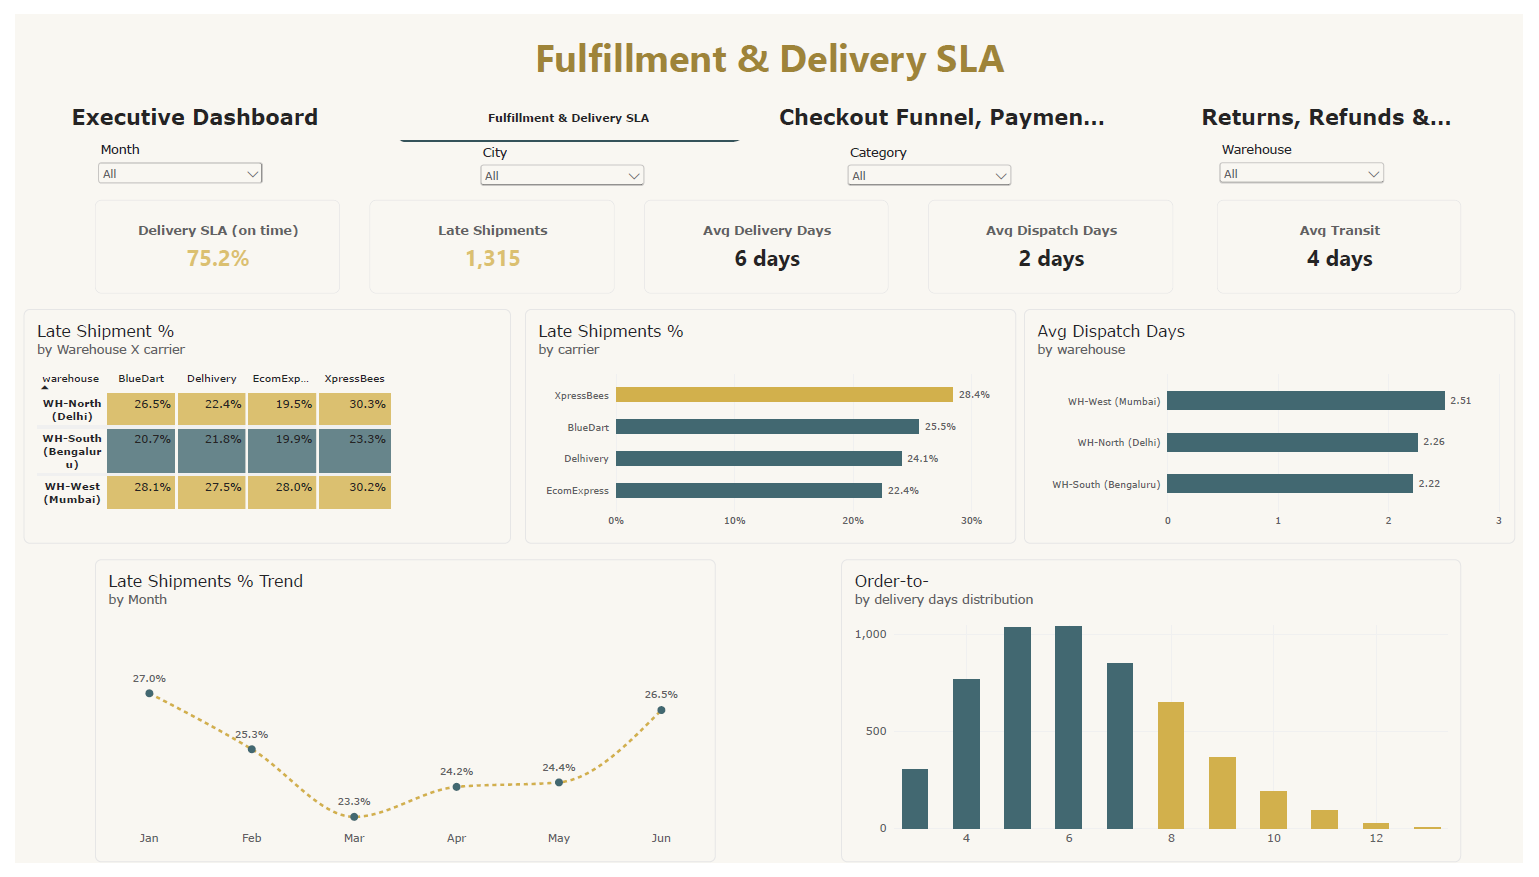

What the dashboard file says about the page in this screenshot:
{"tool":"powerbi","page":{"name":"Fulfillment & Delivery SLA","canvas":[1920,1080],"ordinal":1},"visuals":[{"type":"textbox","box":[9.5,21.5,1901.6,78.7],"z":0},{"type":"clusteredBarChart","fields":{"Category":["shipments.carrier"],"Y":["shipments.Late Shipments %"]},"box":[648.7,375.1,625.9,299],"z":1000},{"type":"clusteredBarChart","fields":{"Category":["shipments.warehouse"],"Y":["shipments.Avg Dispatch Days"]},"box":[1284.8,375.1,625.9,299],"z":2000},{"type":"areaChart","fields":{"Category":["Date.Month"],"Y":["shipments.Late Shipments %"]},"box":[101.4,694.4,790.6,385.2],"z":3000},{"type":"clusteredColumnChart","fields":{"Category":["shipments.Delivery Days"],"Y":["CountNonNull(shipments.shipment_id)"]},"box":[1051.7,694.4,790.6,385.2],"z":4000},{"type":"cardVisual","fields":{"Data":["shipments.Delivery SLA % (on time)"]},"box":[101.4,235.7,311.7,119.1],"z":5000},{"type":"cardVisual","fields":{"Data":["shipments.Late Shipments"]},"box":[451.1,235.7,311.7,119.1],"z":6000},{"type":"cardVisual","fields":{"Data":["shipments.Avg Delivery Days"]},"box":[800.8,235.7,311.7,119.1],"z":7000},{"type":"cardVisual","fields":{"Data":["shipments.Avg Transit Days"]},"box":[1530.6,235.7,311.7,119.1],"z":8000},{"type":"cardVisual","fields":{"Data":["shipments.Avg Dispatch Days"]},"box":[1163.2,235.7,311.7,119.1],"z":9000},{"type":"pivotTable","title":"Late Shipment %","fields":{"Columns":["shipments.carrier"],"Rows":["shipments.warehouse"],"Values":["shipments.Late Shipments %"]},"box":[10.1,375.1,620.9,299],"z":10000},{"type":"pageNavigator","box":[9.5,100.2,1896.8,62],"z":10001},{"type":"slicer","fields":{"Values":["Date.Month"]},"box":[100.2,162.2,219.5,62],"z":10002},{"type":"slicer","fields":{"Values":["customers.city"]},"box":[586.9,164.6,219.5,62],"z":10003},{"type":"slicer","fields":{"Values":["products.category"]},"box":[1054.6,164.6,219.5,62],"z":10004},{"type":"slicer","fields":{"Values":["shipments.warehouse"]},"box":[1529.4,162.2,219.5,62],"z":10005}]}

Visuals, with their boxes in screenshot pixels (x1, y1, x2, y2), scaled from the page's 1920x1080 canvas onto the 1539x877 screenshot:
textbox: bbox=[8, 17, 1532, 81]
clusteredBarChart - shipments.carrier x shipments.Late Shipments %: bbox=[520, 305, 1022, 547]
clusteredBarChart - shipments.warehouse x shipments.Avg Dispatch Days: bbox=[1030, 305, 1532, 547]
areaChart - Date.Month x shipments.Late Shipments %: bbox=[81, 564, 715, 876]
clusteredColumnChart - shipments.Delivery Days x CountNonNull(shipments.shipment_id): bbox=[843, 564, 1477, 876]
cardVisual - shipments.Delivery SLA % (on time): bbox=[81, 191, 331, 288]
cardVisual - shipments.Late Shipments: bbox=[362, 191, 611, 288]
cardVisual - shipments.Avg Delivery Days: bbox=[642, 191, 892, 288]
cardVisual - shipments.Avg Transit Days: bbox=[1227, 191, 1477, 288]
cardVisual - shipments.Avg Dispatch Days: bbox=[932, 191, 1182, 288]
"Late Shipment %" pivotTable: bbox=[8, 305, 506, 547]
pageNavigator: bbox=[8, 81, 1528, 132]
slicer - Date.Month: bbox=[80, 132, 256, 182]
slicer - customers.city: bbox=[470, 134, 646, 184]
slicer - products.category: bbox=[845, 134, 1021, 184]
slicer - shipments.warehouse: bbox=[1226, 132, 1402, 182]
